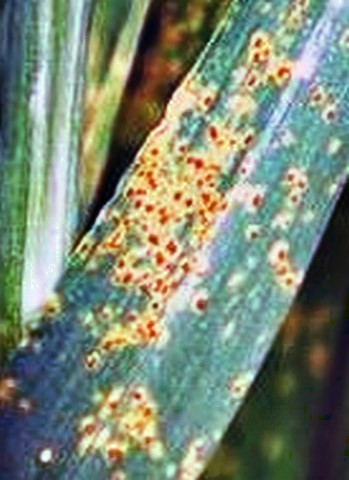Leaf Rust: (74, 37, 336, 425)
